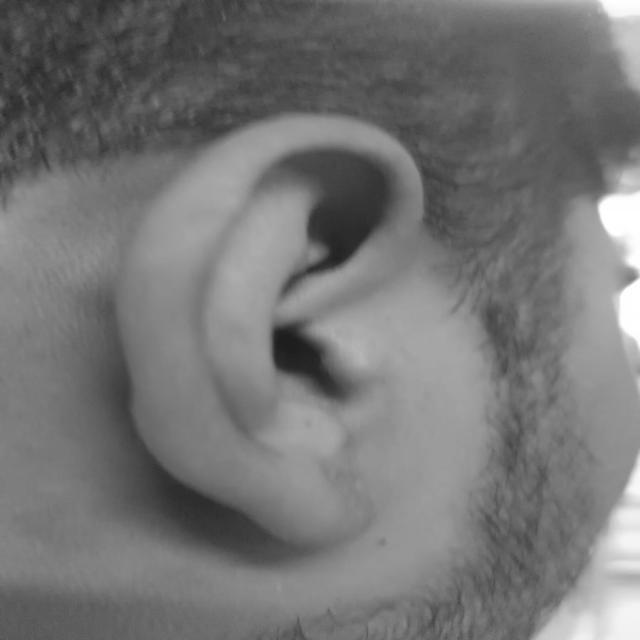ear: (116, 115, 421, 546), (339, 400, 339, 401), (336, 320, 337, 320)
